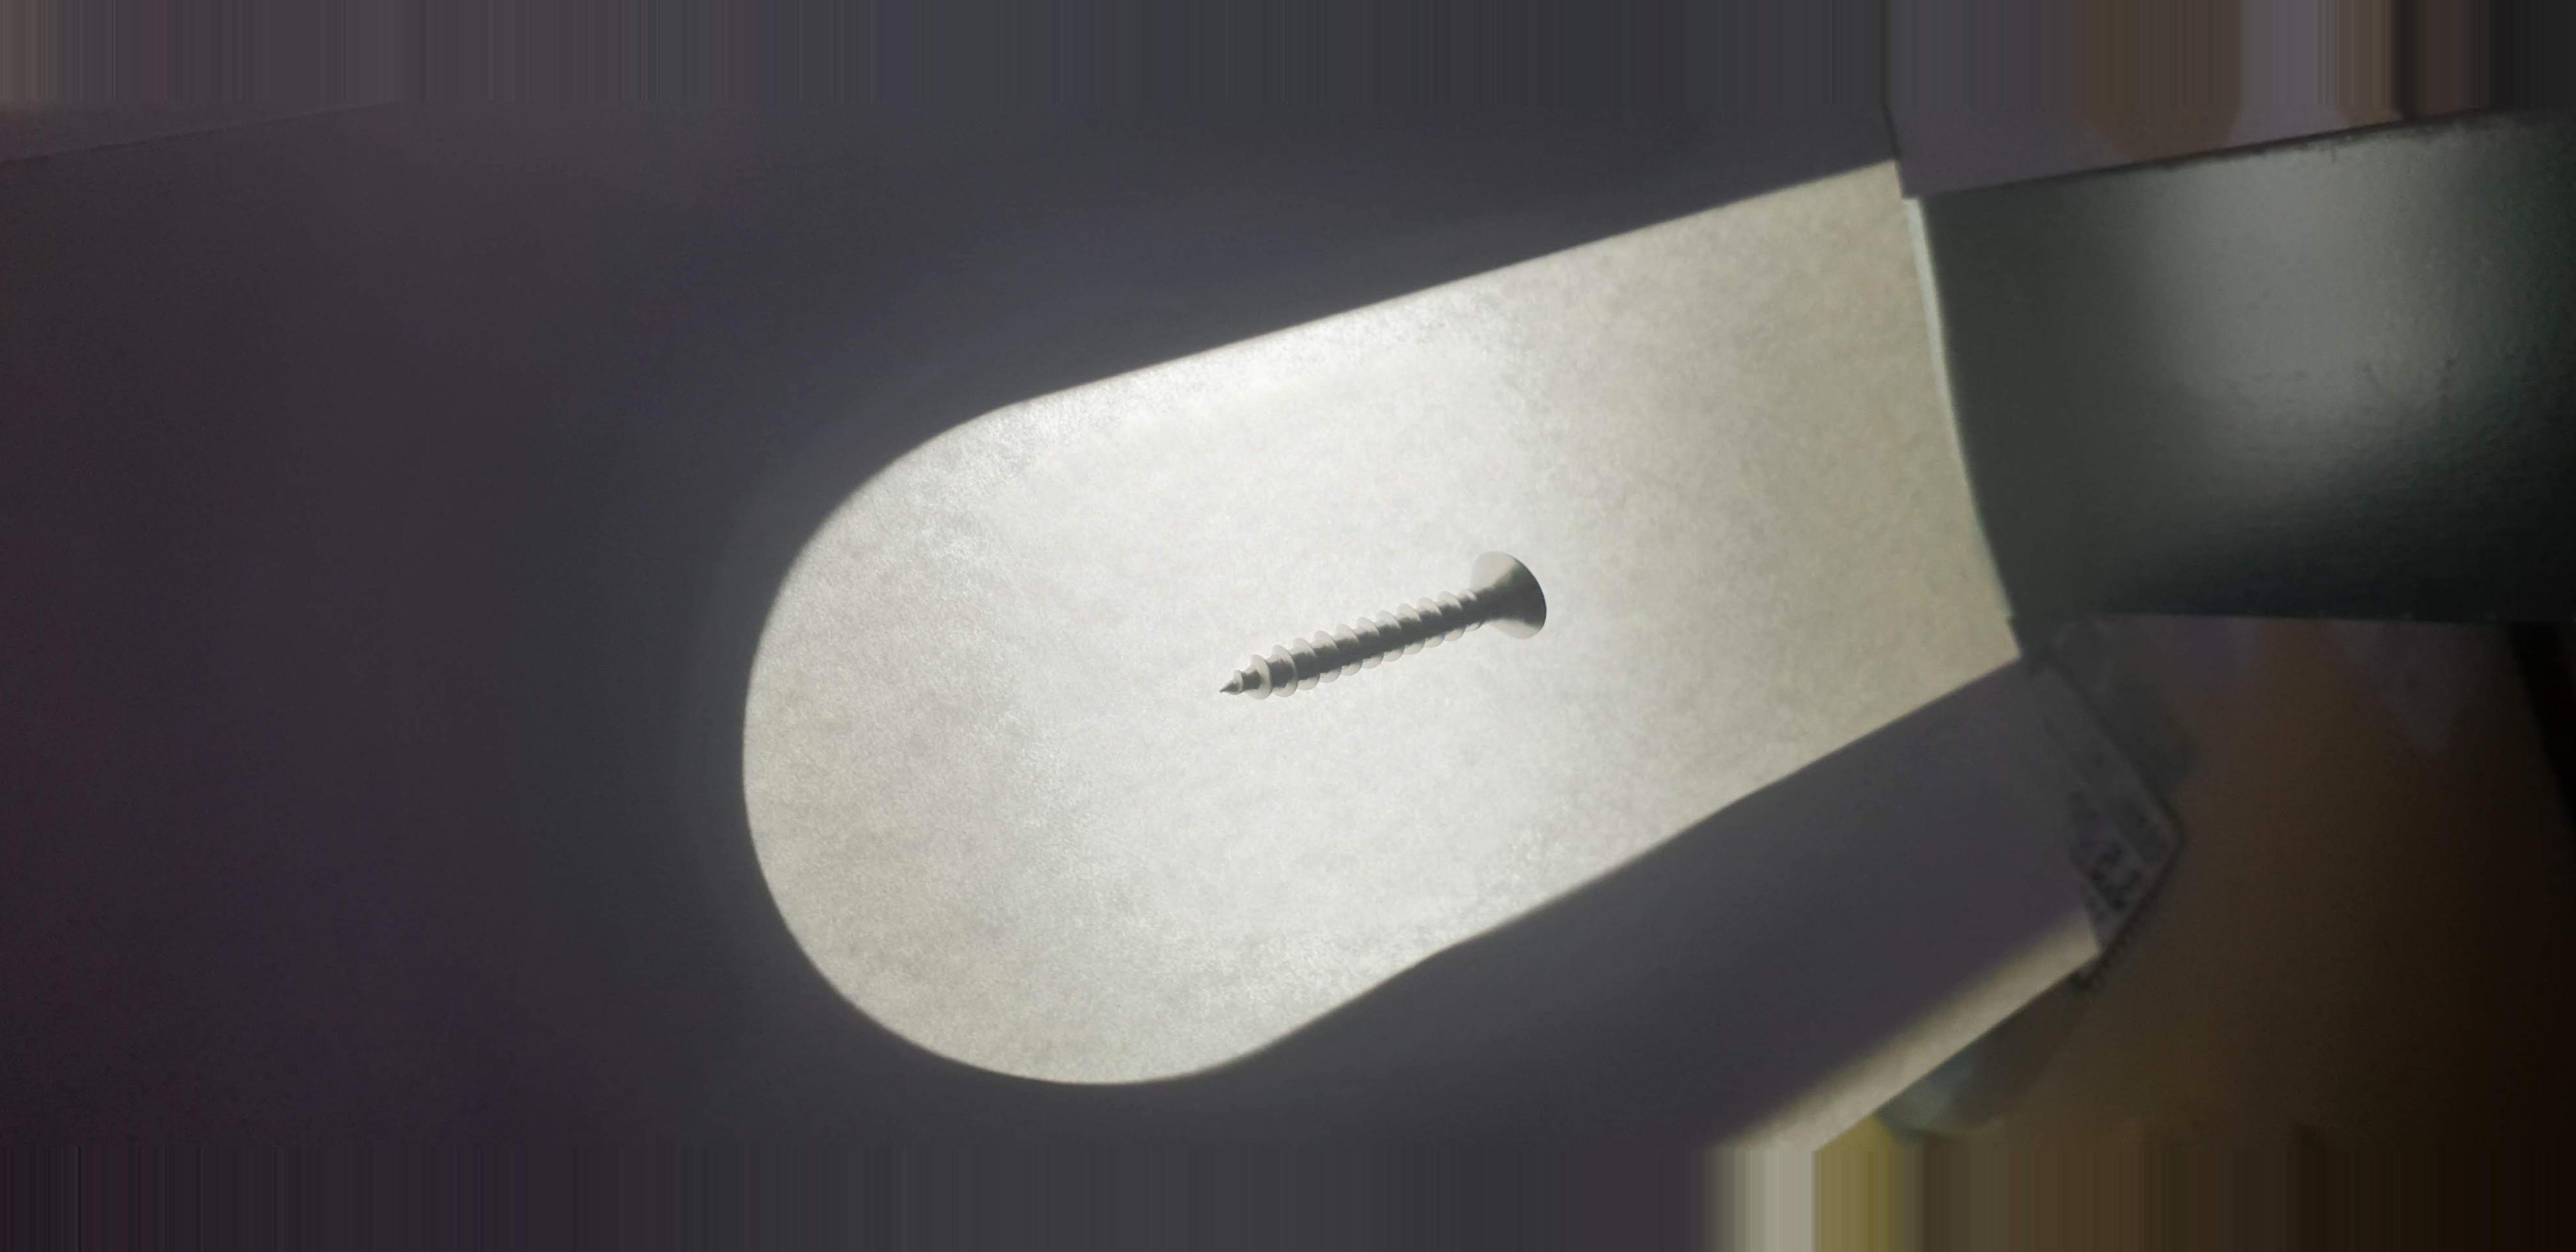S004: (1186, 526, 1602, 738)
